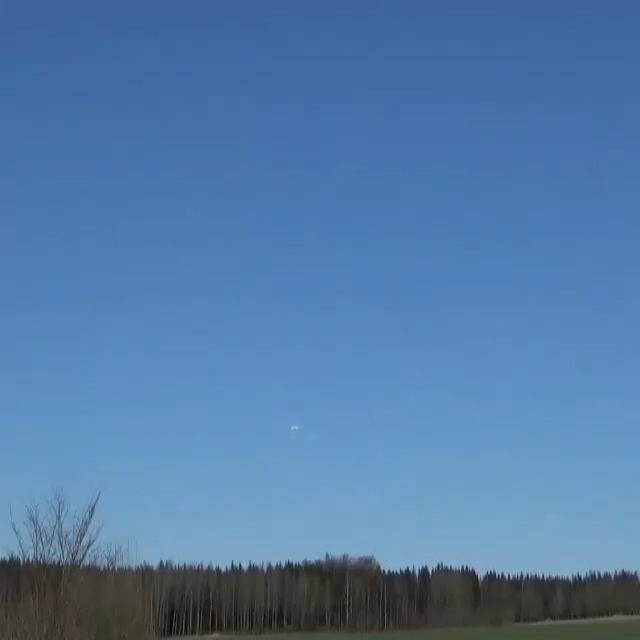drone: (290, 423, 299, 431)
